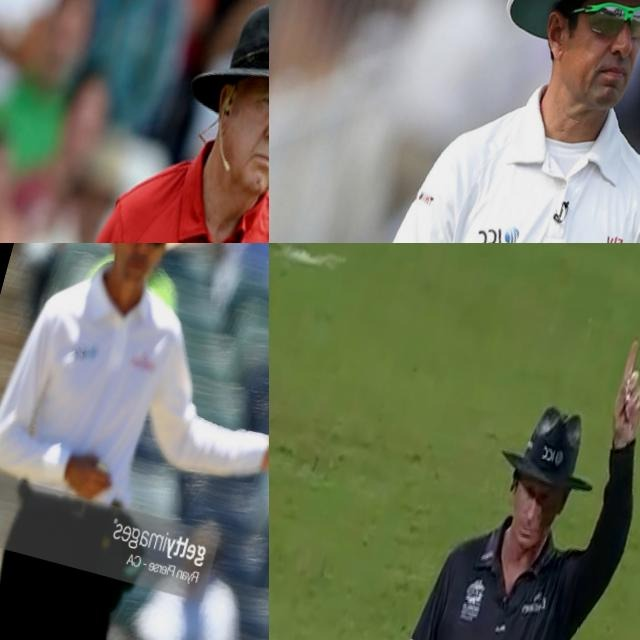No_Action: (309, 0, 640, 243)
No_Ball: (0, 243, 269, 640), (0, 0, 269, 243)
Out: (381, 291, 640, 640)
